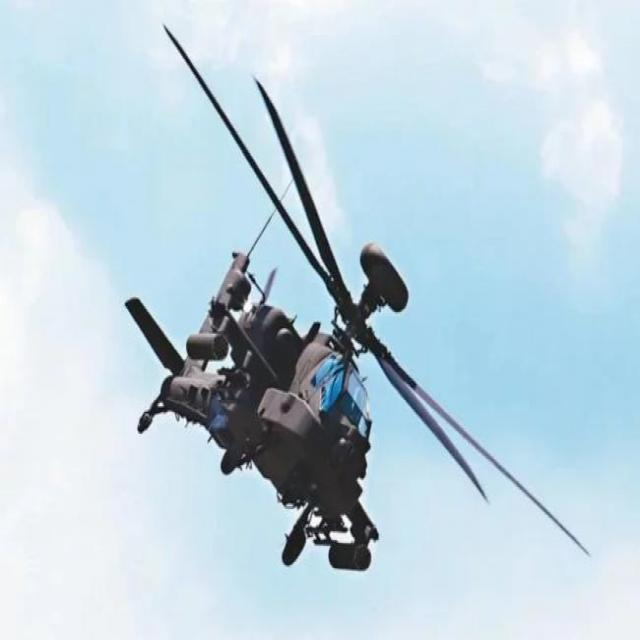MIL_HELO: (118, 7, 619, 611)
